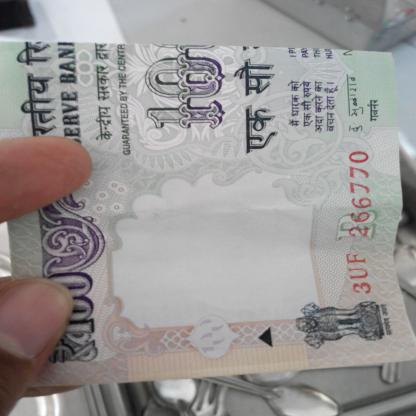Old100Front: (0, 39, 416, 388)
